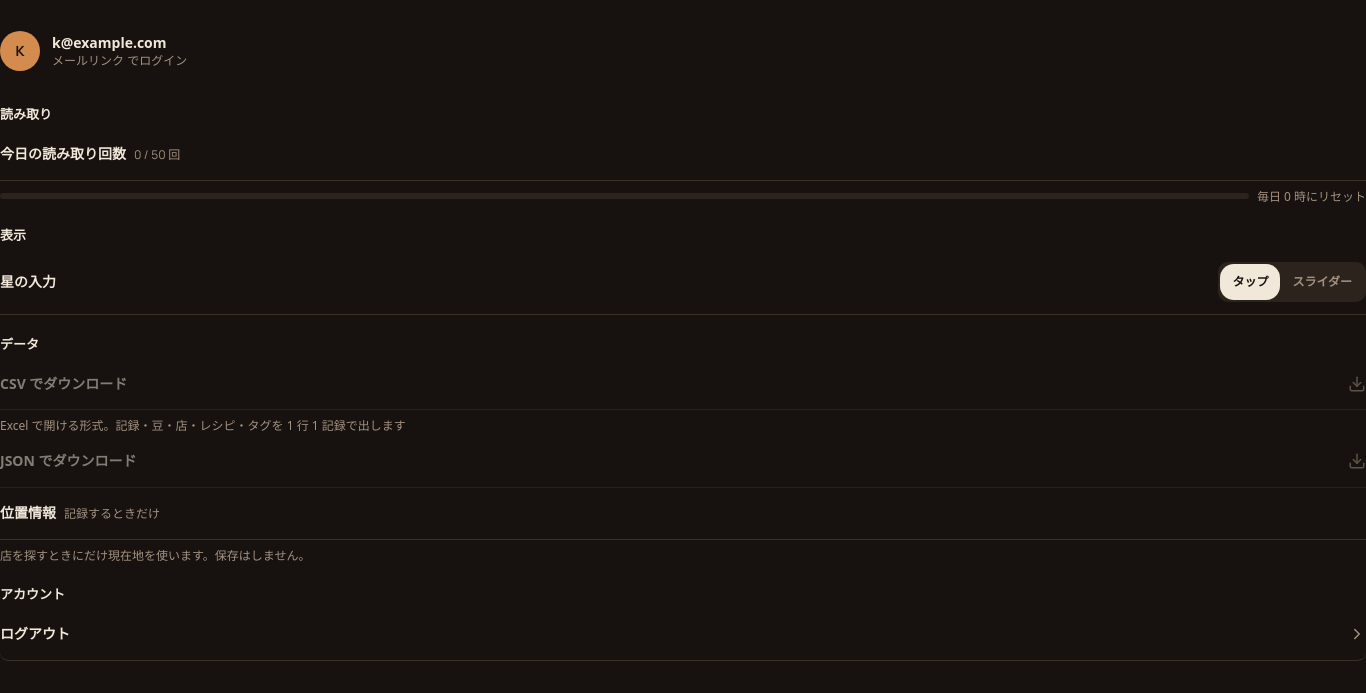
Test: SettingsView › 星の入力を切り替えられ、削除ボタンは準備中の説明を出す
Click the radio button labelled "スライダー": (1322,282) [1280,264,1364,300]
(page scrolled)
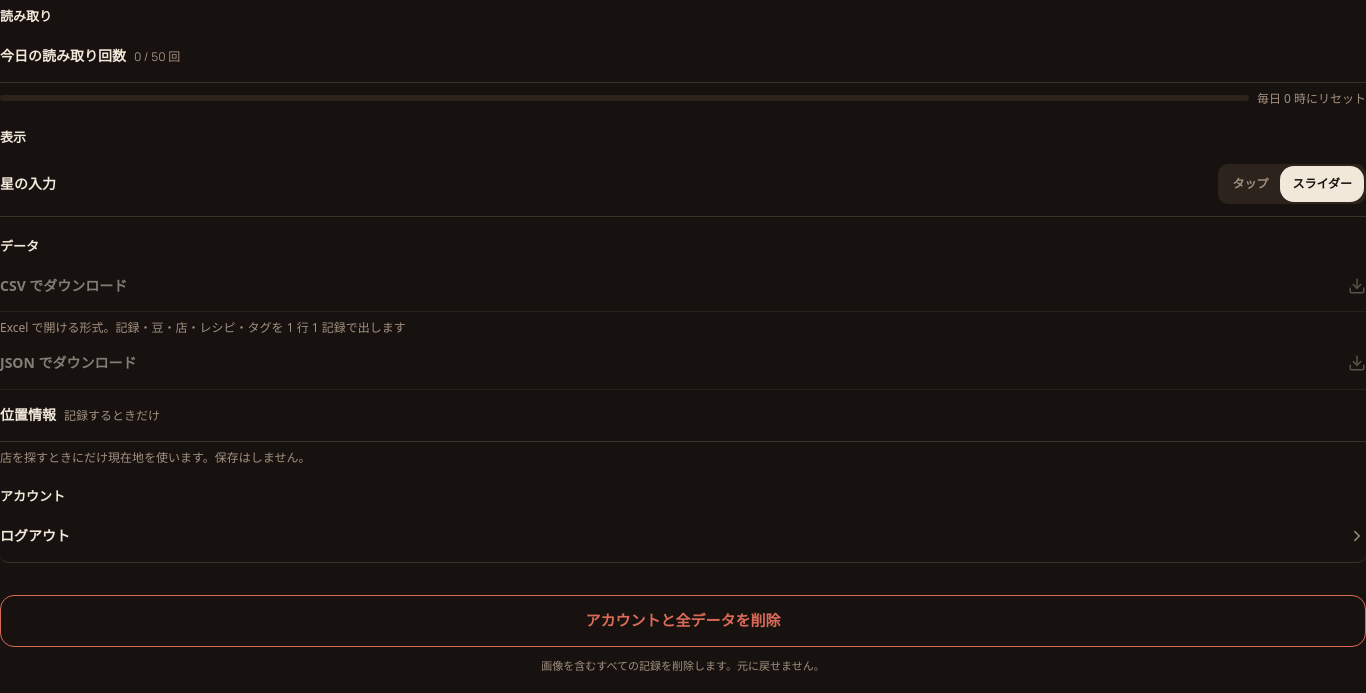
Expected: the radio button labelled "スライダー" is checked, [1280,166,1364,202]
Click the button "アカウントと全データを削除": (683,620) [0,594,1365,646]
(page scrolled)
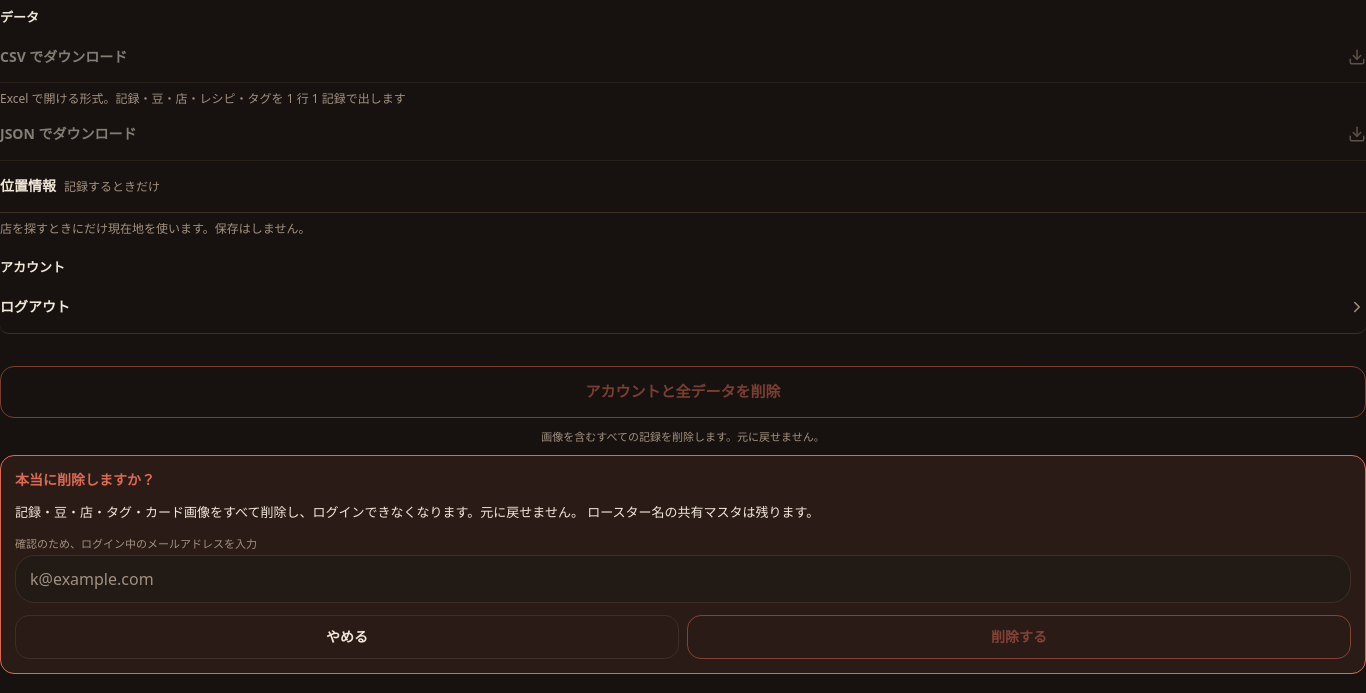
Expected: the dialog named "アカウント削除の確認" is shown, [0,455,1365,674]
Expected: the button "削除する" is disabled, [687,615,1351,659]
